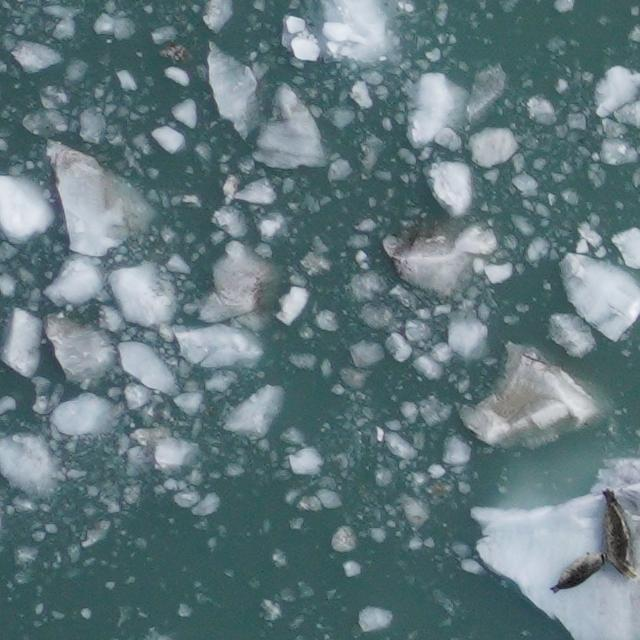seal: (597, 482, 639, 581), (546, 546, 609, 595)
